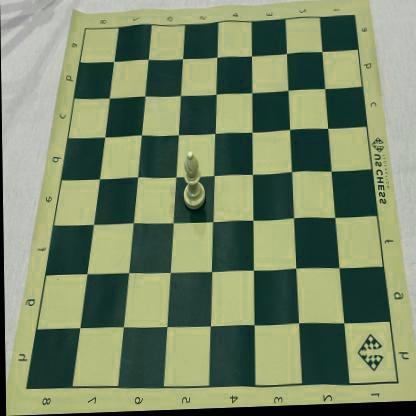white-bishop: (182, 152, 206, 213)
